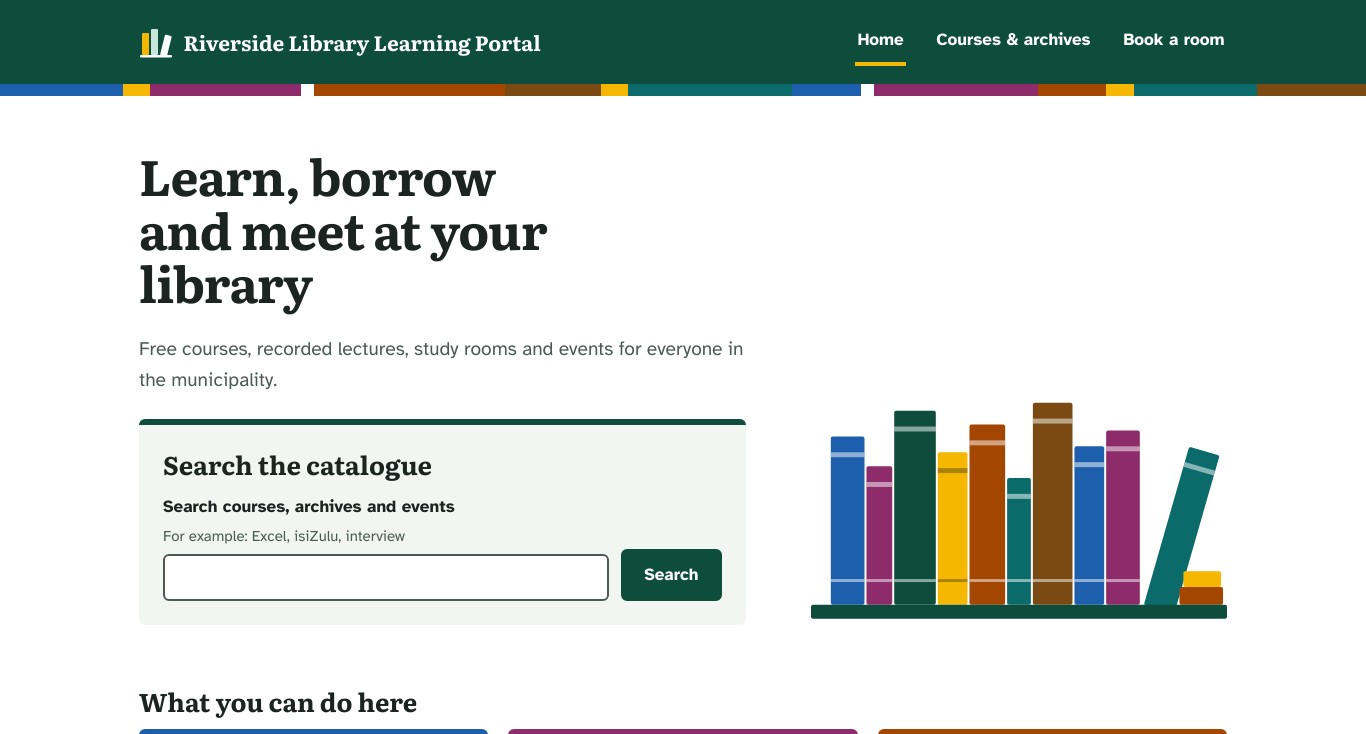
Scenario: Keyboard navigation and focus management › home search passes the query to the catalogue
In the search field labelled "Search courses, archives and events": [386, 577] box left=163, top=554, right=609, bottom=601, type "isiZulu"
Then press Enter
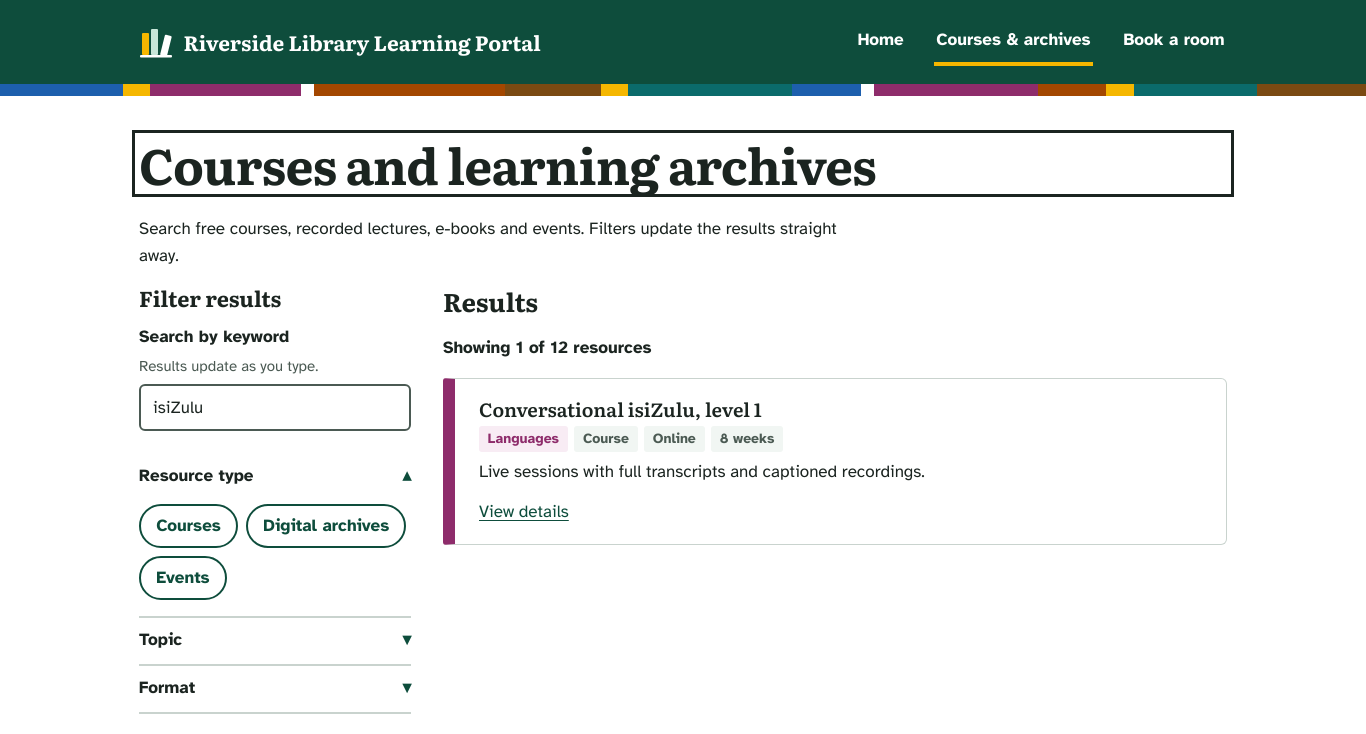
Expected: the search field labelled "Search by keyword" holds "isiZulu", left=139, top=384, right=411, bottom=431
